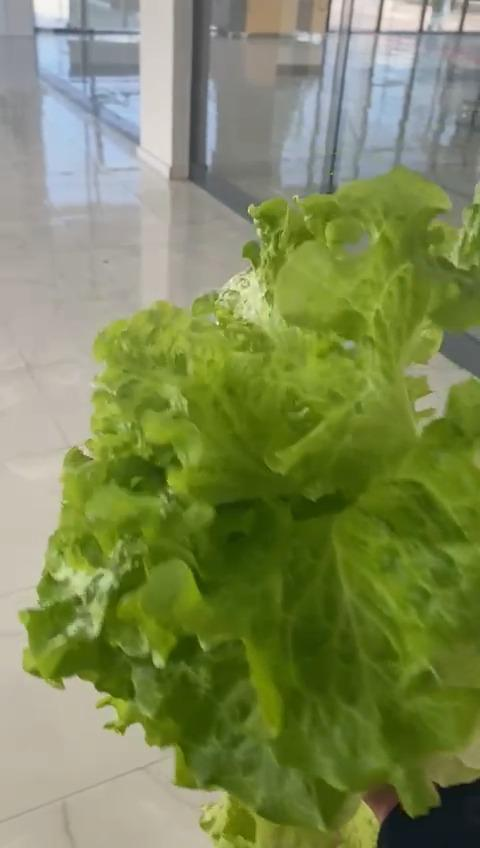Healthy: (18, 167, 480, 836)
